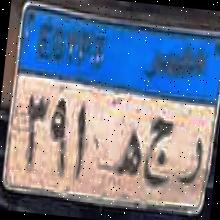1: (67, 100, 93, 186)
3: (18, 84, 52, 174)
9: (43, 90, 74, 181)
haa: (110, 120, 146, 183)
jeem: (138, 109, 178, 194)
raa: (175, 132, 207, 196)
